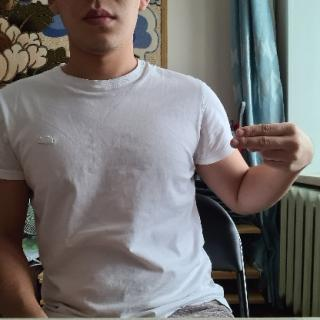AYN: (227, 120, 317, 174)
